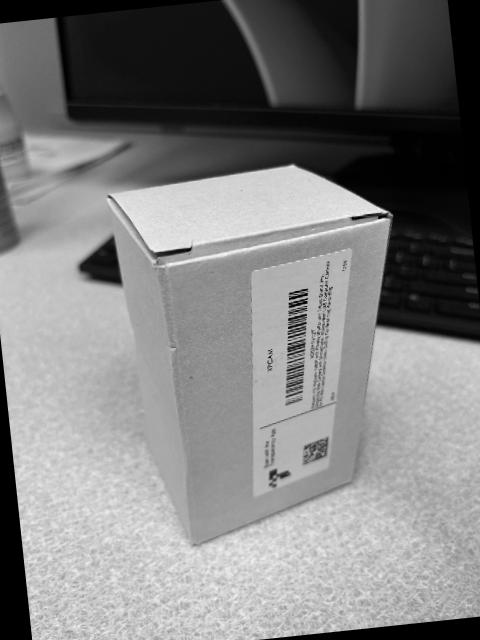CameraBox1: (107, 167, 392, 549)
